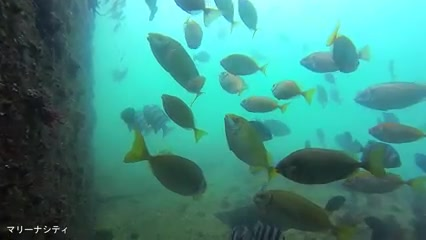smallfish: (240, 182, 356, 240), (122, 128, 215, 197), (214, 106, 279, 179), (275, 147, 393, 182), (158, 88, 208, 145), (351, 75, 424, 113), (364, 117, 426, 155), (234, 88, 299, 120), (217, 51, 274, 83)
